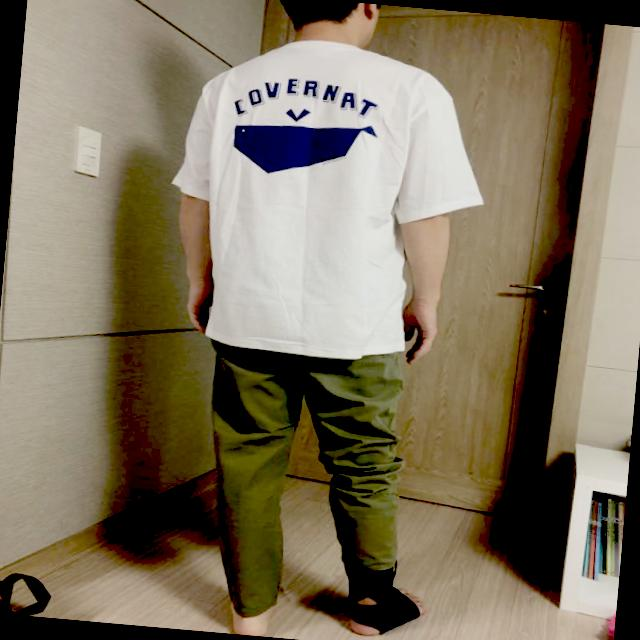cottonpants: (196, 327, 423, 628)
shortsleeve: (155, 24, 498, 368)
